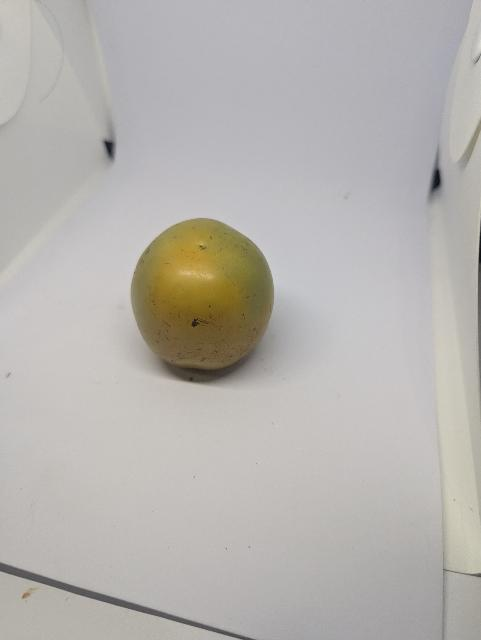breaker: (132, 216, 282, 376)
